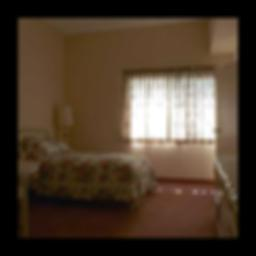Puerta: (214, 58, 236, 154)
